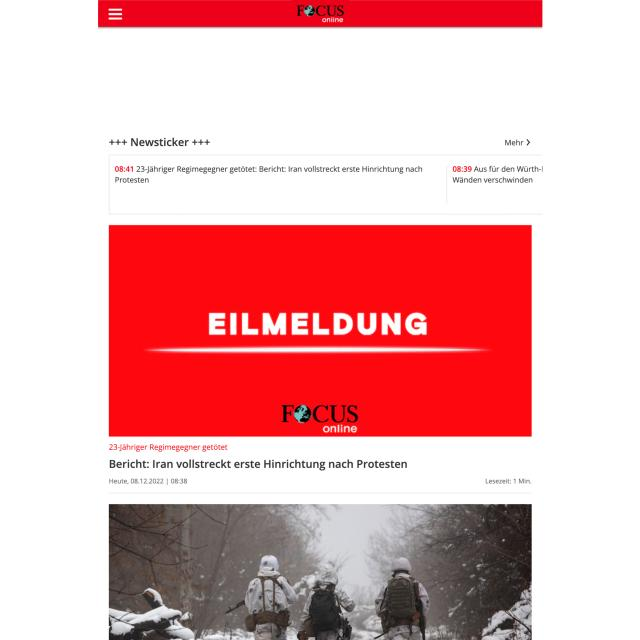logo: (294, 2, 348, 24)
navigation: (107, 6, 125, 21)
